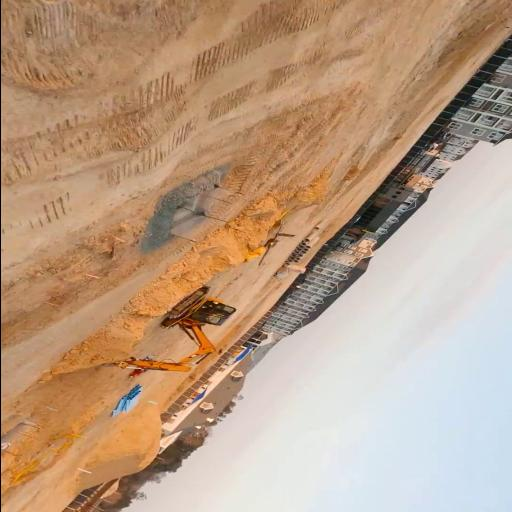uav: (247, 220, 299, 266)
